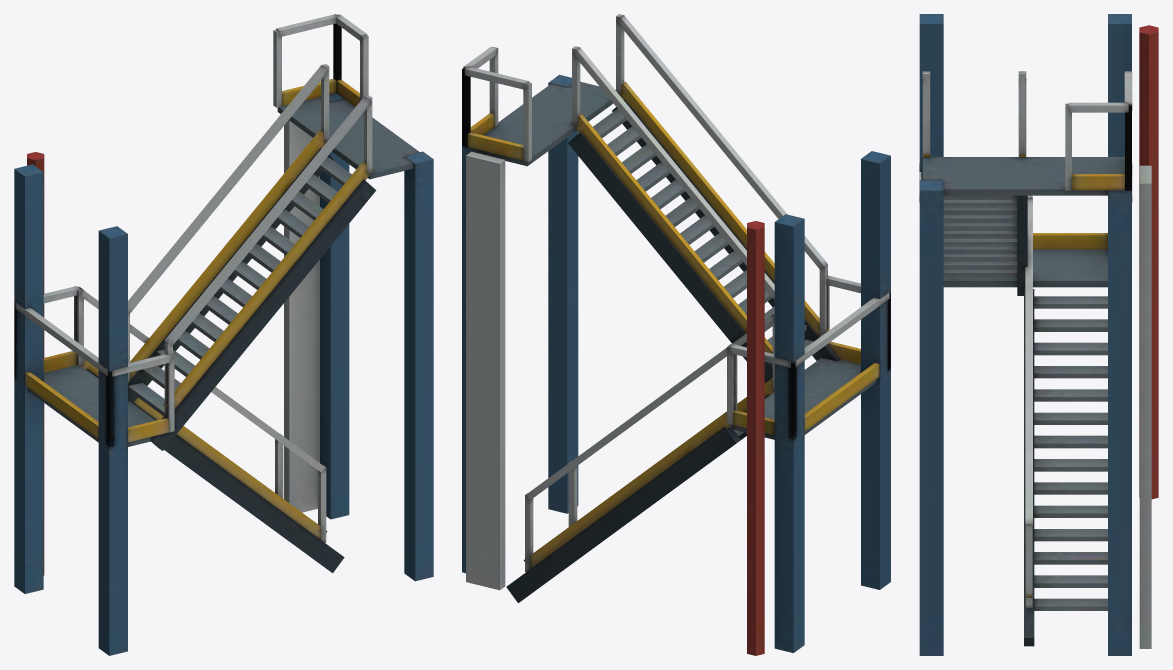
The model's file is access_stairtower_v5_far.glb.
3 renders of one model, left to right at view 1: azimuth 30°, elevation 25°; view 2: azimuth 150°, elevation 25°; view 3: azimuth 270°, elevation 25°, orthographic. The views are drawn at different scales.
Parts seen in each view (by area): view 1: body; view 2: body; view 3: body.
Part boxes in pixels (box(x1,y1,x2,y2)): body: box(14, 14, 433, 655); body: box(462, 14, 890, 655); body: box(919, 14, 1158, 655).
Size of the model in its own units: 4.89 by 7.35 by 2.8.
Materials: 1 (1 with a texture image).
